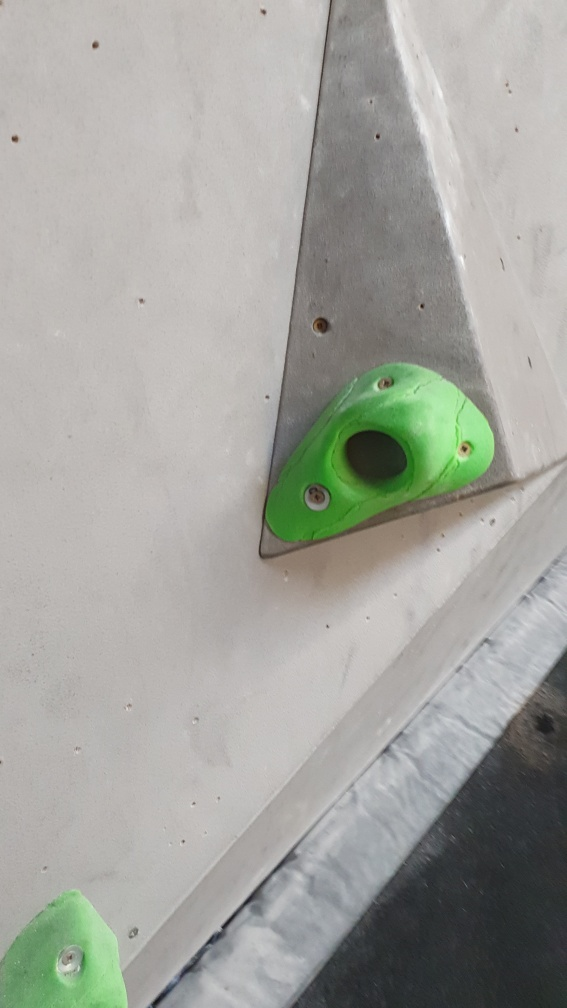Pocket: (259, 357, 498, 551)
